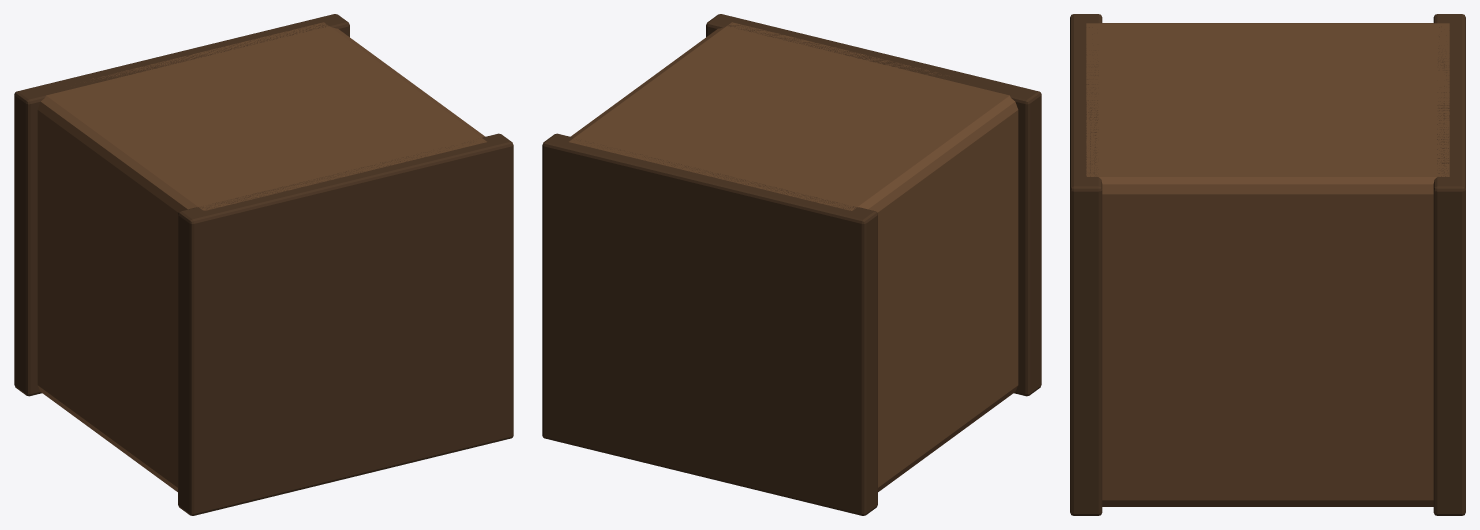
Rendered from crate.glb.
3 views of the same model, side by side, from view 1: azimuth 30°, elevation 25°; view 2: azimuth 150°, elevation 25°; view 3: azimuth 270°, elevation 25° (orthographic). The views are drawn at different scales.
Visible parts, largest first — view 1: crate; view 2: crate; view 3: crate.
Boxes of the visible parts, x1=… form: crate: x1=14, y1=14, x2=513, y2=515; crate: x1=542, y1=14, x2=1041, y2=515; crate: x1=1070, y1=14, x2=1465, y2=515.
Size of the model in its own units: 0.64 by 0.56 by 0.61.
